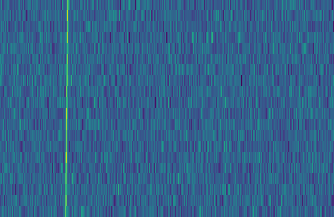signal: (58, 0, 69, 217)
